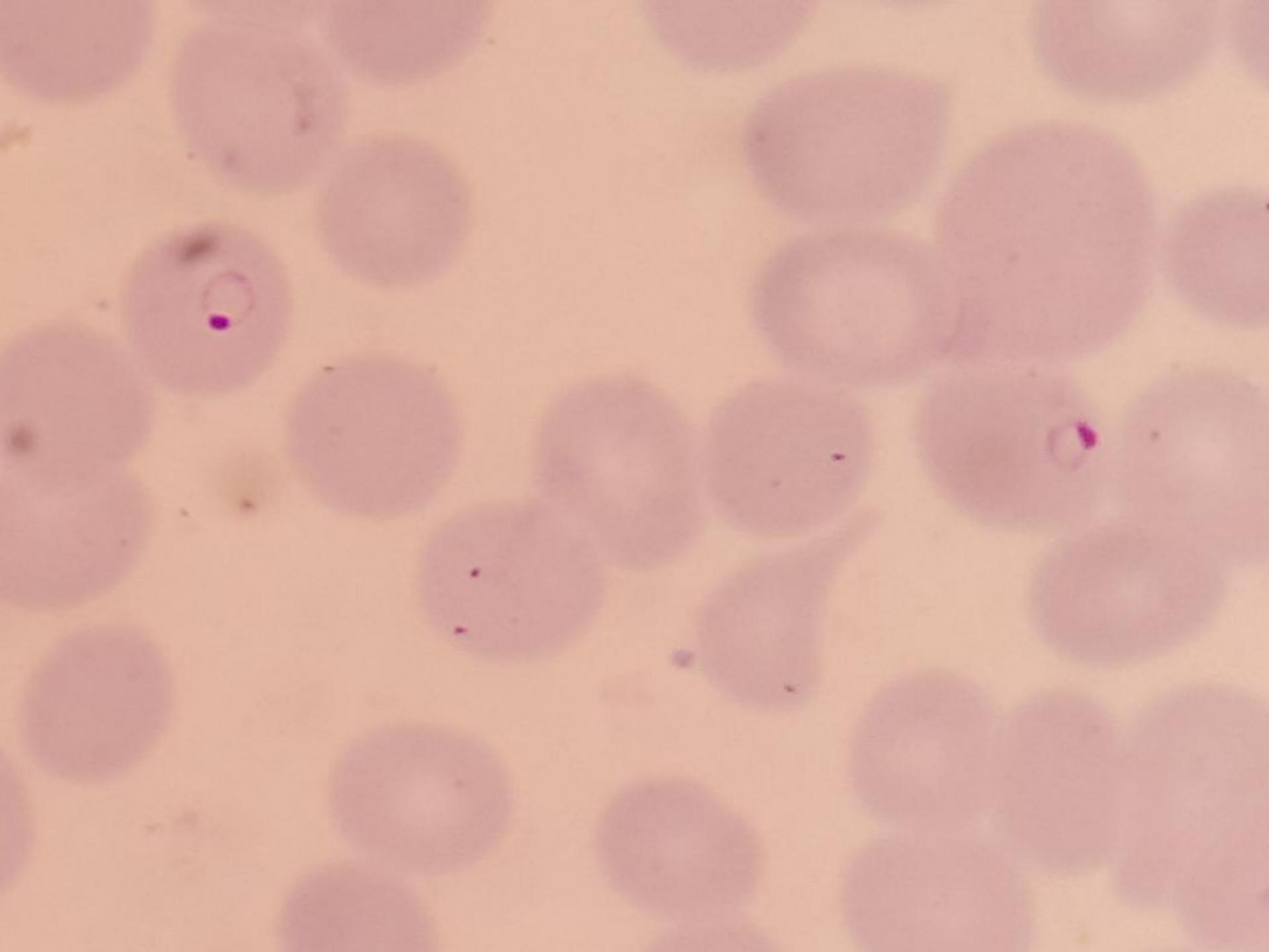Infected: (917, 350, 1125, 532), (117, 217, 293, 393)
Uninfected: (927, 124, 1154, 362), (1108, 685, 1269, 914), (531, 373, 708, 564), (694, 519, 869, 710), (752, 227, 962, 385), (744, 68, 954, 223), (419, 499, 614, 665), (165, 20, 346, 187), (700, 377, 882, 543), (286, 355, 464, 523), (326, 721, 512, 879), (1035, 519, 1227, 666), (848, 670, 1014, 839), (990, 689, 1142, 870), (594, 774, 762, 924), (1117, 366, 1264, 537), (22, 624, 176, 786), (0, 324, 143, 490), (317, 132, 471, 286), (836, 832, 1032, 949), (4, 459, 151, 610), (1039, 4, 1208, 100), (1167, 184, 1268, 332), (4, 3, 151, 104), (327, 4, 496, 85)
